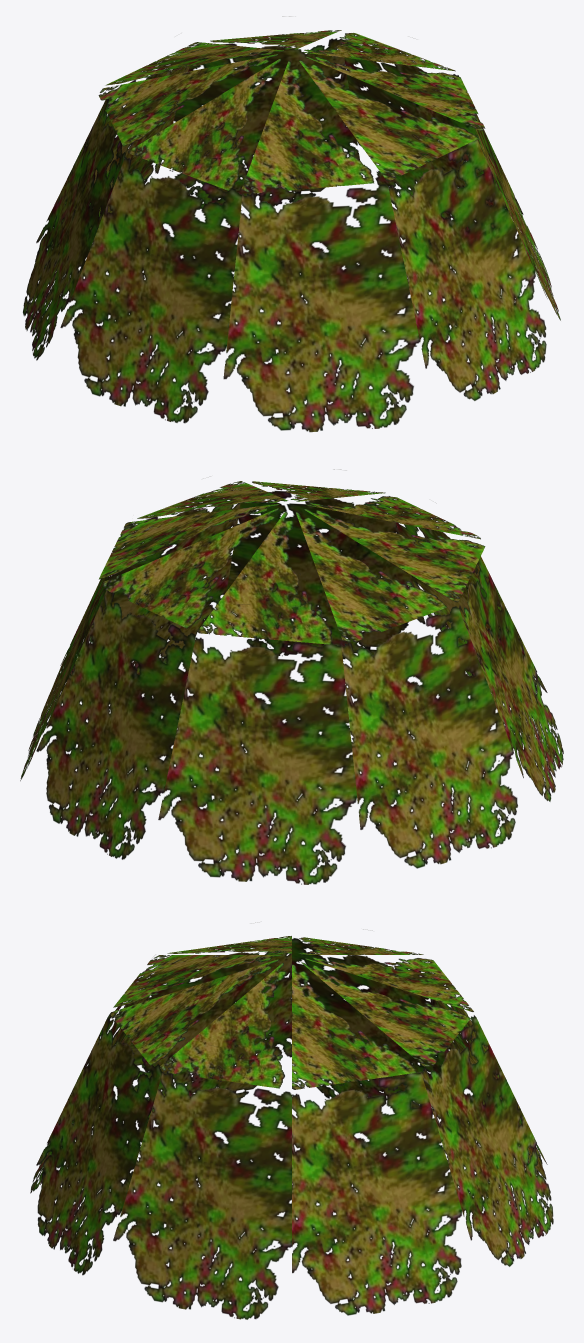
The model's file is bush2.glb.
The picture shows the model from 3 angles, top to bottom: view 1: azimuth 30°, elevation 25°; view 2: azimuth 150°, elevation 25°; view 3: azimuth 270°, elevation 25°; orthographic projection. The views are drawn at different scales.
Parts seen in each view (by area): view 1: tree2; view 2: tree2; view 3: tree2.
Part boxes in pixels (x1=…): tree2: x1=23, y1=30, x2=560, y2=432; tree2: x1=20, y1=469, x2=563, y2=884; tree2: x1=30, y1=936, x2=553, y2=1319.
Bounding box in the file's own units: 1.1 × 0.5592 × 1.1.
1 material, 1 textured.
